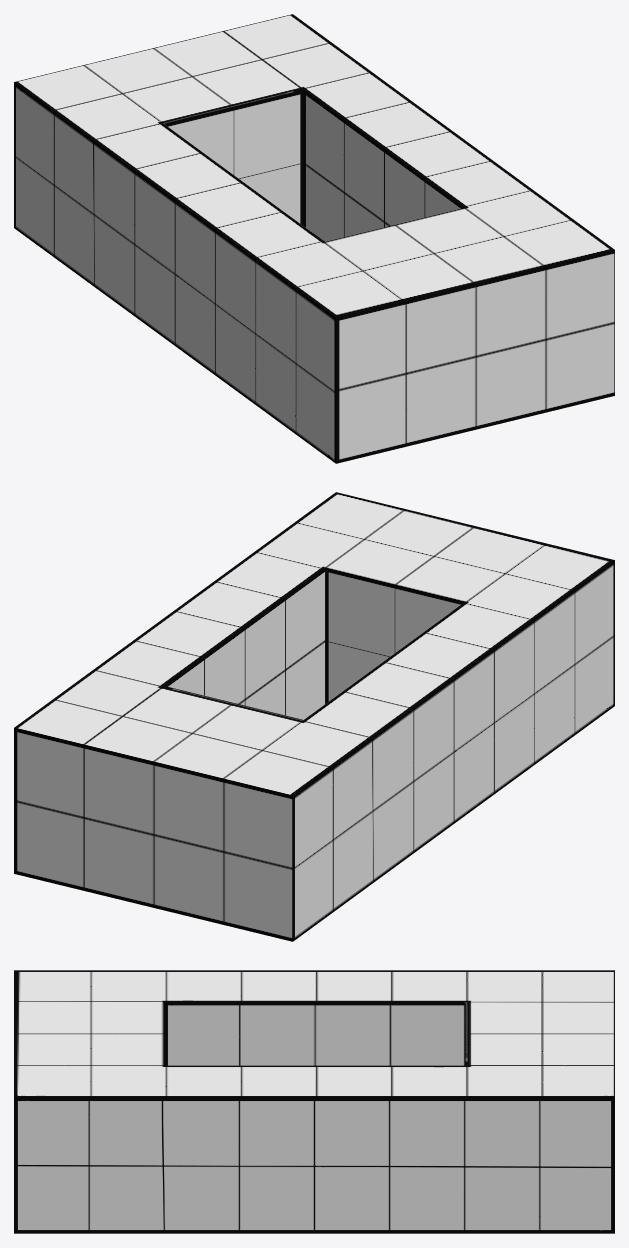
Rendered from fig12.glb.
The picture shows the model from 3 angles, top to bottom: view 1: azimuth 30°, elevation 25°; view 2: azimuth 150°, elevation 25°; view 3: azimuth 270°, elevation 25°; orthographic projection. The views are drawn at different scales.
Visible parts, largest first — view 1: root; view 2: root; view 3: root.
Part boxes in pixels (x1,y1,x2,y2): root: [14, 14, 614, 463]; root: [14, 492, 614, 941]; root: [14, 970, 614, 1233].
Bounding box in the file's own units: 0.04 × 0.02 × 0.08.
4 materials, 4 textured.
